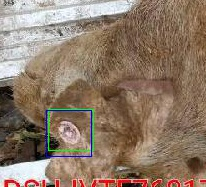text: (48, 109, 93, 150)
